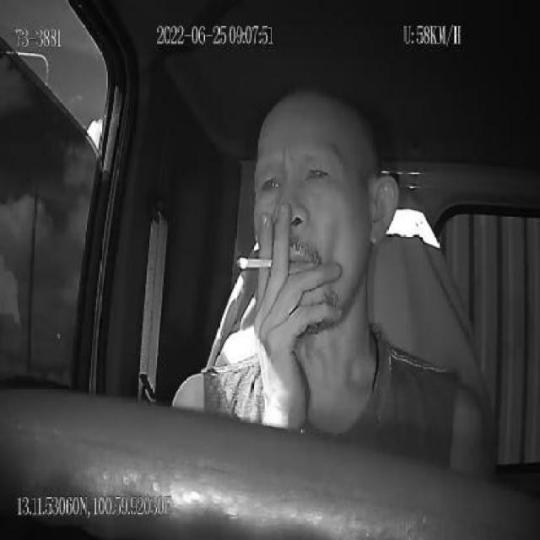smoking: (237, 253, 272, 272)
